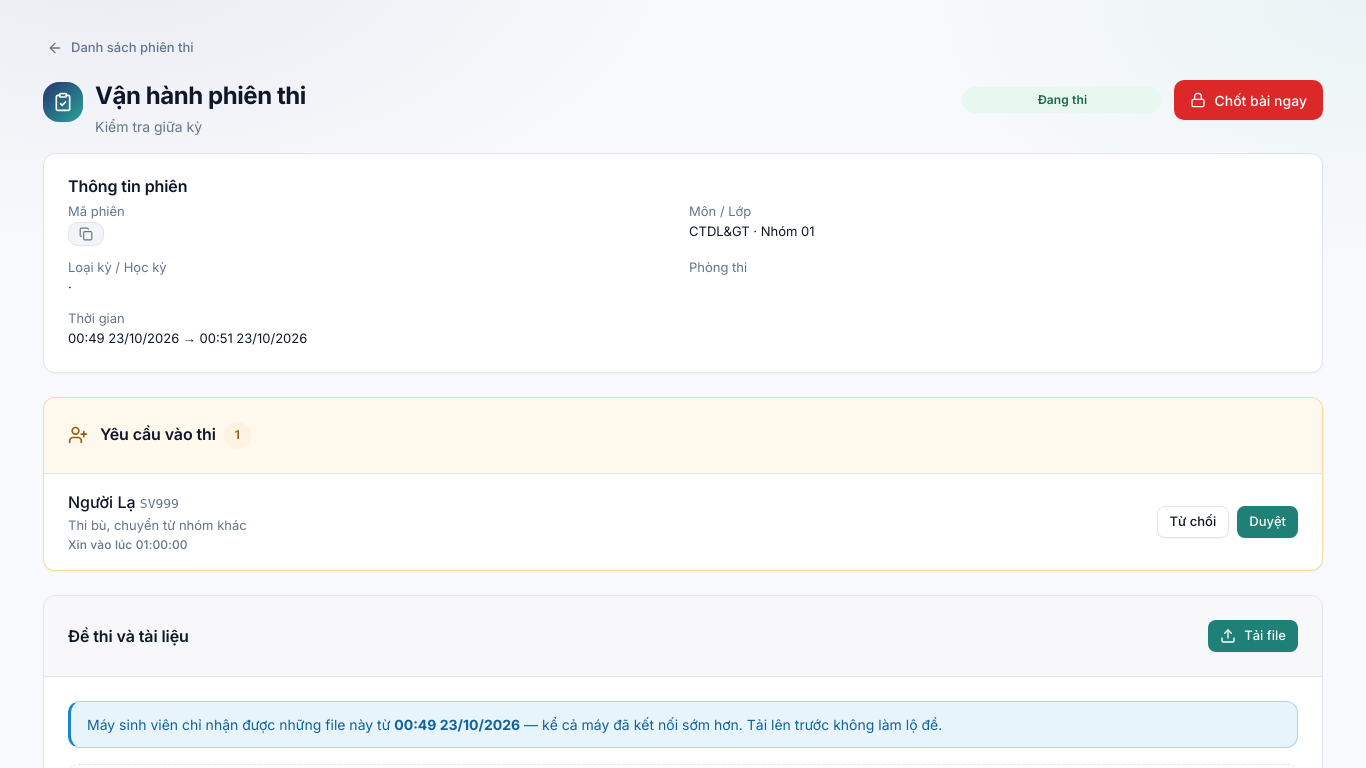
it: ExamSessionLobbyPage › access requests › offers EVERY class the lecturer owns, even one with a stale course name
expect the text "Người Lạ" is shown: met, box [68, 492, 136, 512]
Step 1. Click the button "Duyệt" → {"x": 1268, "y": 522}, box [1237, 506, 1298, 538]
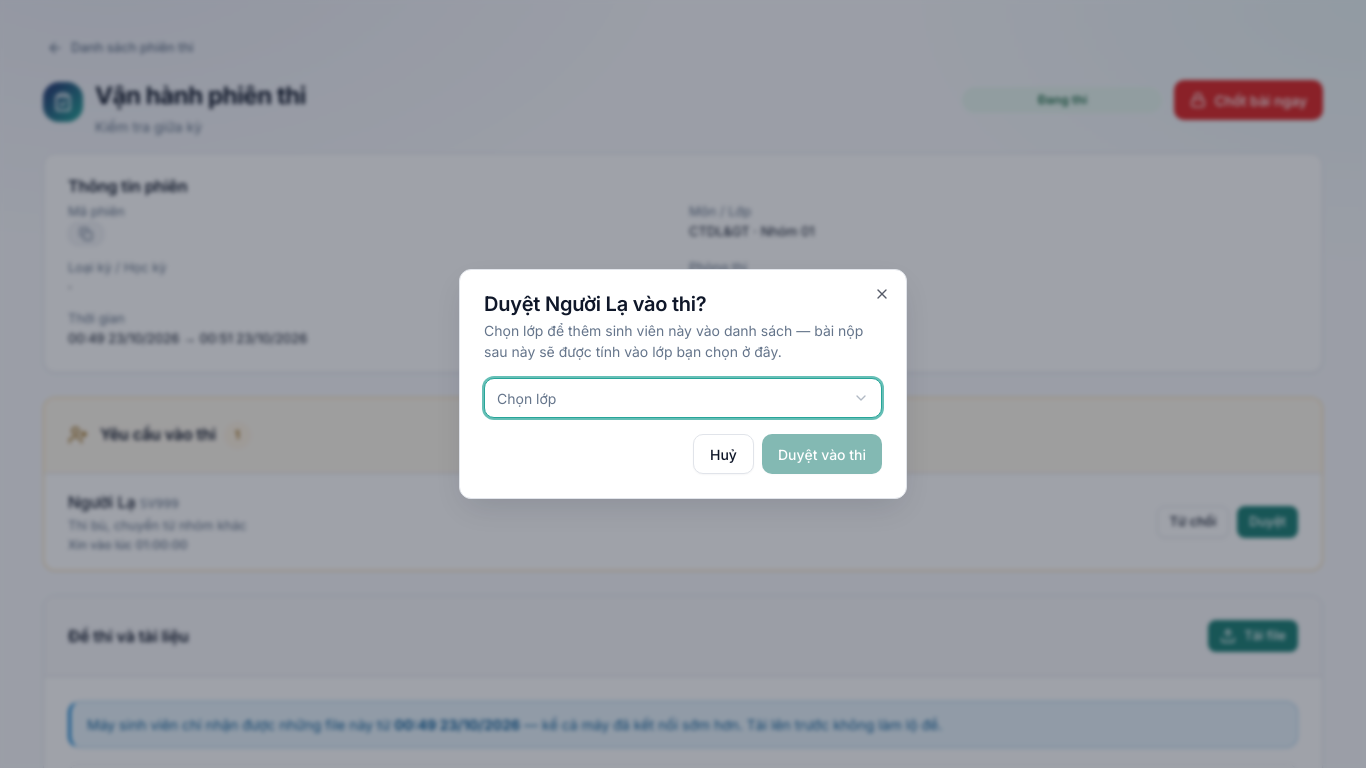
Step 2. Click the dropdown → {"x": 527, "y": 398}, box [484, 378, 882, 418]
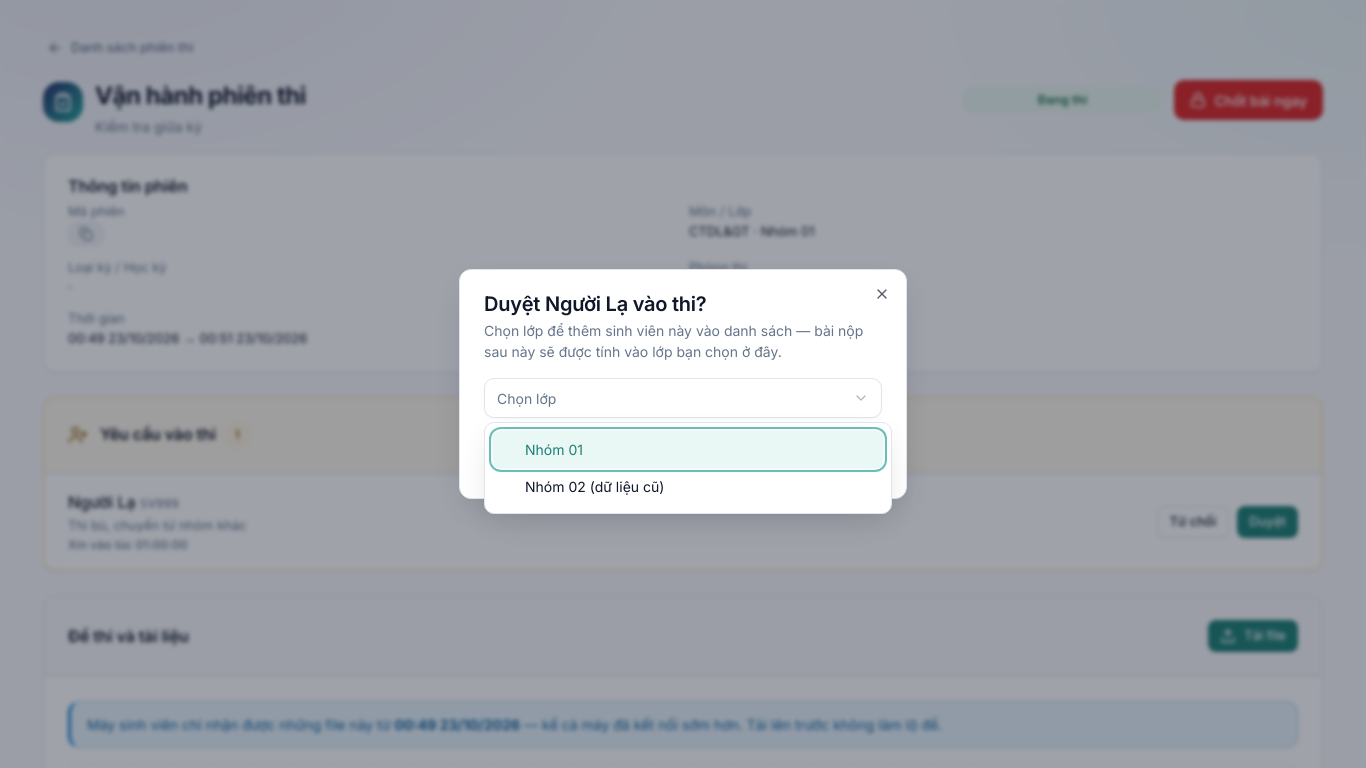
expect the text "Nhóm 01" is shown: met, box [525, 439, 583, 460]
expect the text "Nhóm 02 (dữ liệu cũ)" is shown: met, box [525, 476, 664, 497]
